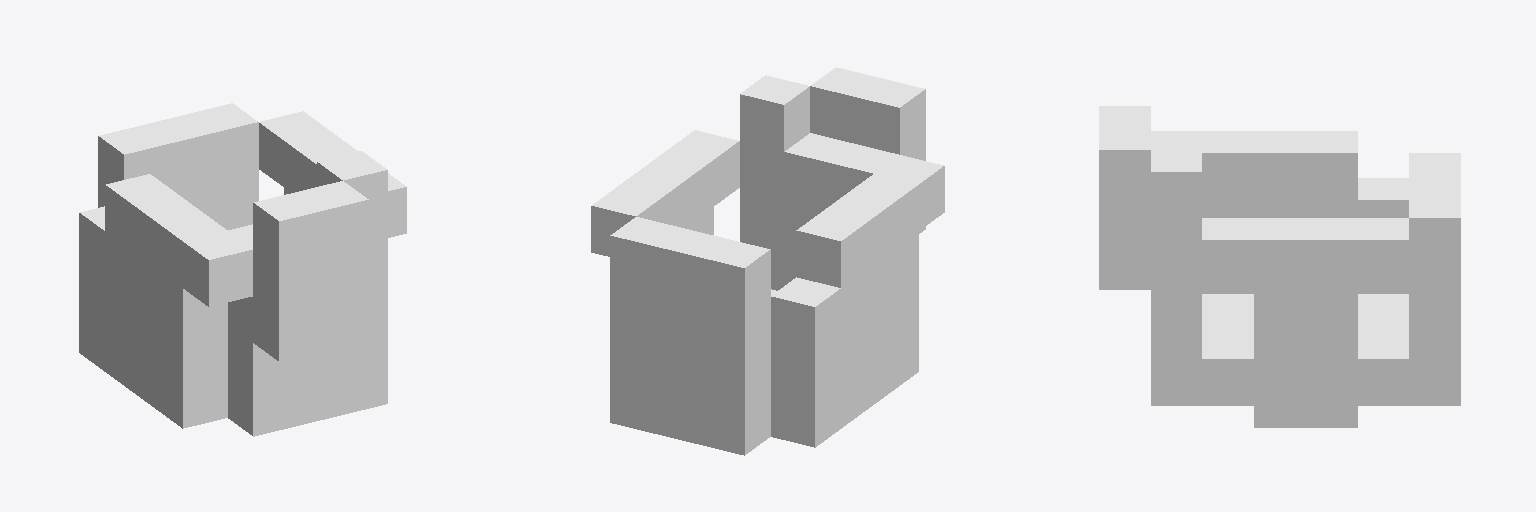
Rendered from DaedraArmorBootsLeft.obj.
The picture shows the model from 3 angles: view 1: azimuth 30°, elevation 25°; view 2: azimuth 150°, elevation 25°; view 3: azimuth 270°, elevation 25°; orthographic projection.
Parts seen in each view (by area): view 1: object 1; view 2: object 1; view 3: object 1.
Boxes of the visible parts, x1,y1,x2,y2 form: object 1: [79, 103, 406, 436]; object 1: [591, 67, 944, 455]; object 1: [1099, 106, 1460, 427].
Size of the model in its own units: 0.5 by 0.5 by 0.7.